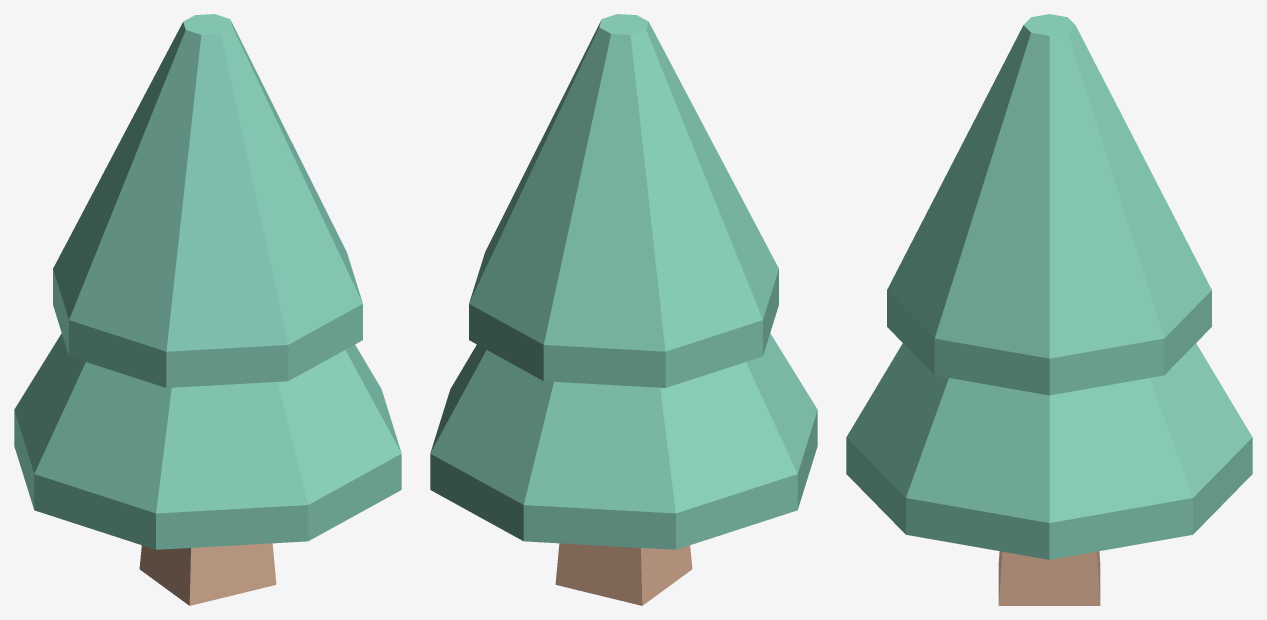
File: Tree.glb
3 views of the same model, side by side, from view 1: azimuth 30°, elevation 25°; view 2: azimuth 150°, elevation 25°; view 3: azimuth 270°, elevation 25° (orthographic).
Visible parts, largest first — view 1: detail_treeLarge; view 2: detail_treeLarge; view 3: detail_treeLarge.
Part boxes in pixels (x1,y1,x2,y2): detail_treeLarge: (14,14,401,605); detail_treeLarge: (430,14,817,605); detail_treeLarge: (846,14,1252,605).
Size of the model in its own units: 0.5 by 0.76 by 0.5.
